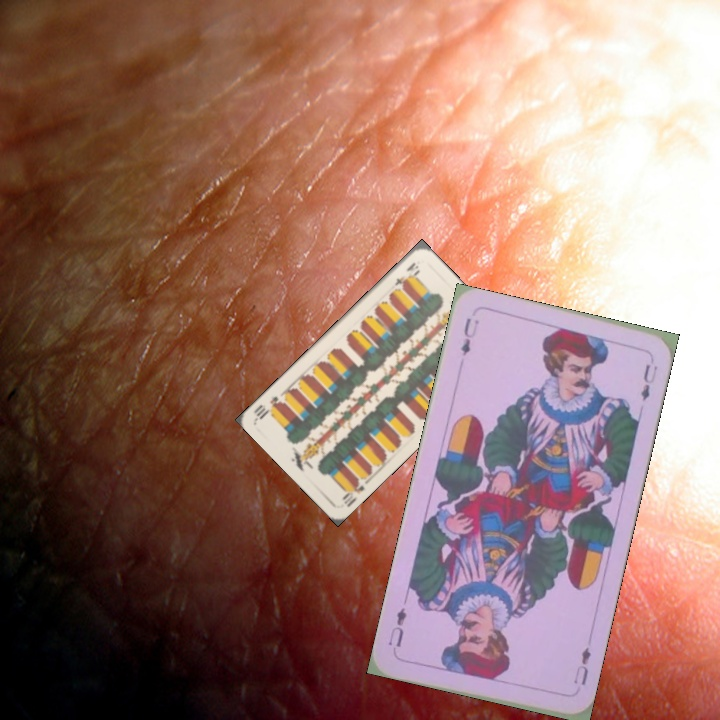E10: (338, 472, 368, 509), (391, 258, 421, 289)
EU: (569, 641, 594, 688), (457, 313, 482, 359)
